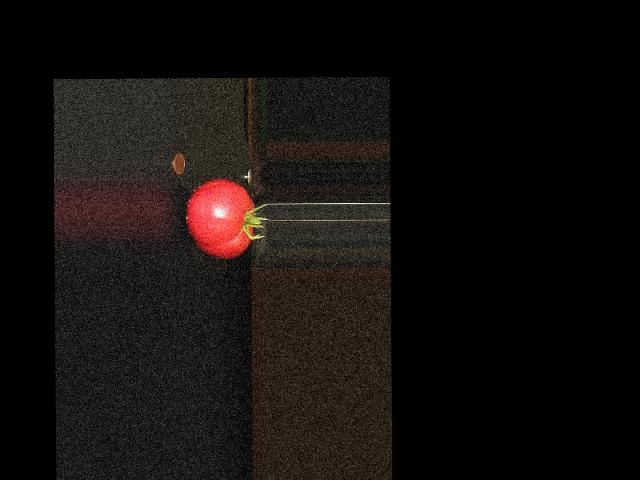tomato: (185, 179, 254, 259)
